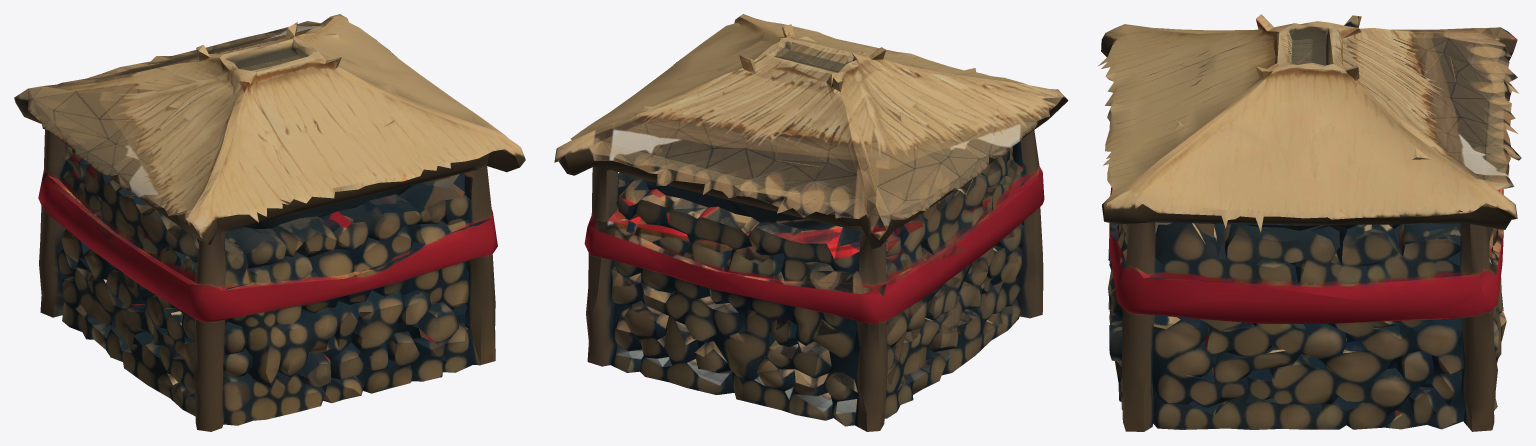
File: tawantinsuyu_almacen_madera_65b.glb
3 renders of one model, left to right at view 1: azimuth 30°, elevation 25°; view 2: azimuth 150°, elevation 25°; view 3: azimuth 270°, elevation 25°, orthographic. The views are drawn at different scales.
Visible parts, largest first — view 1: geometry_0; view 2: geometry_0; view 3: geometry_0.
Part boxes in pixels (x1,y1,x2,y2): geometry_0: (14, 14, 525, 431); geometry_0: (554, 14, 1068, 431); geometry_0: (1097, 14, 1521, 431).
Bounding box in the file's own units: 1.4 × 1.1 × 1.34.
Materials: 1 (1 with a texture image).
